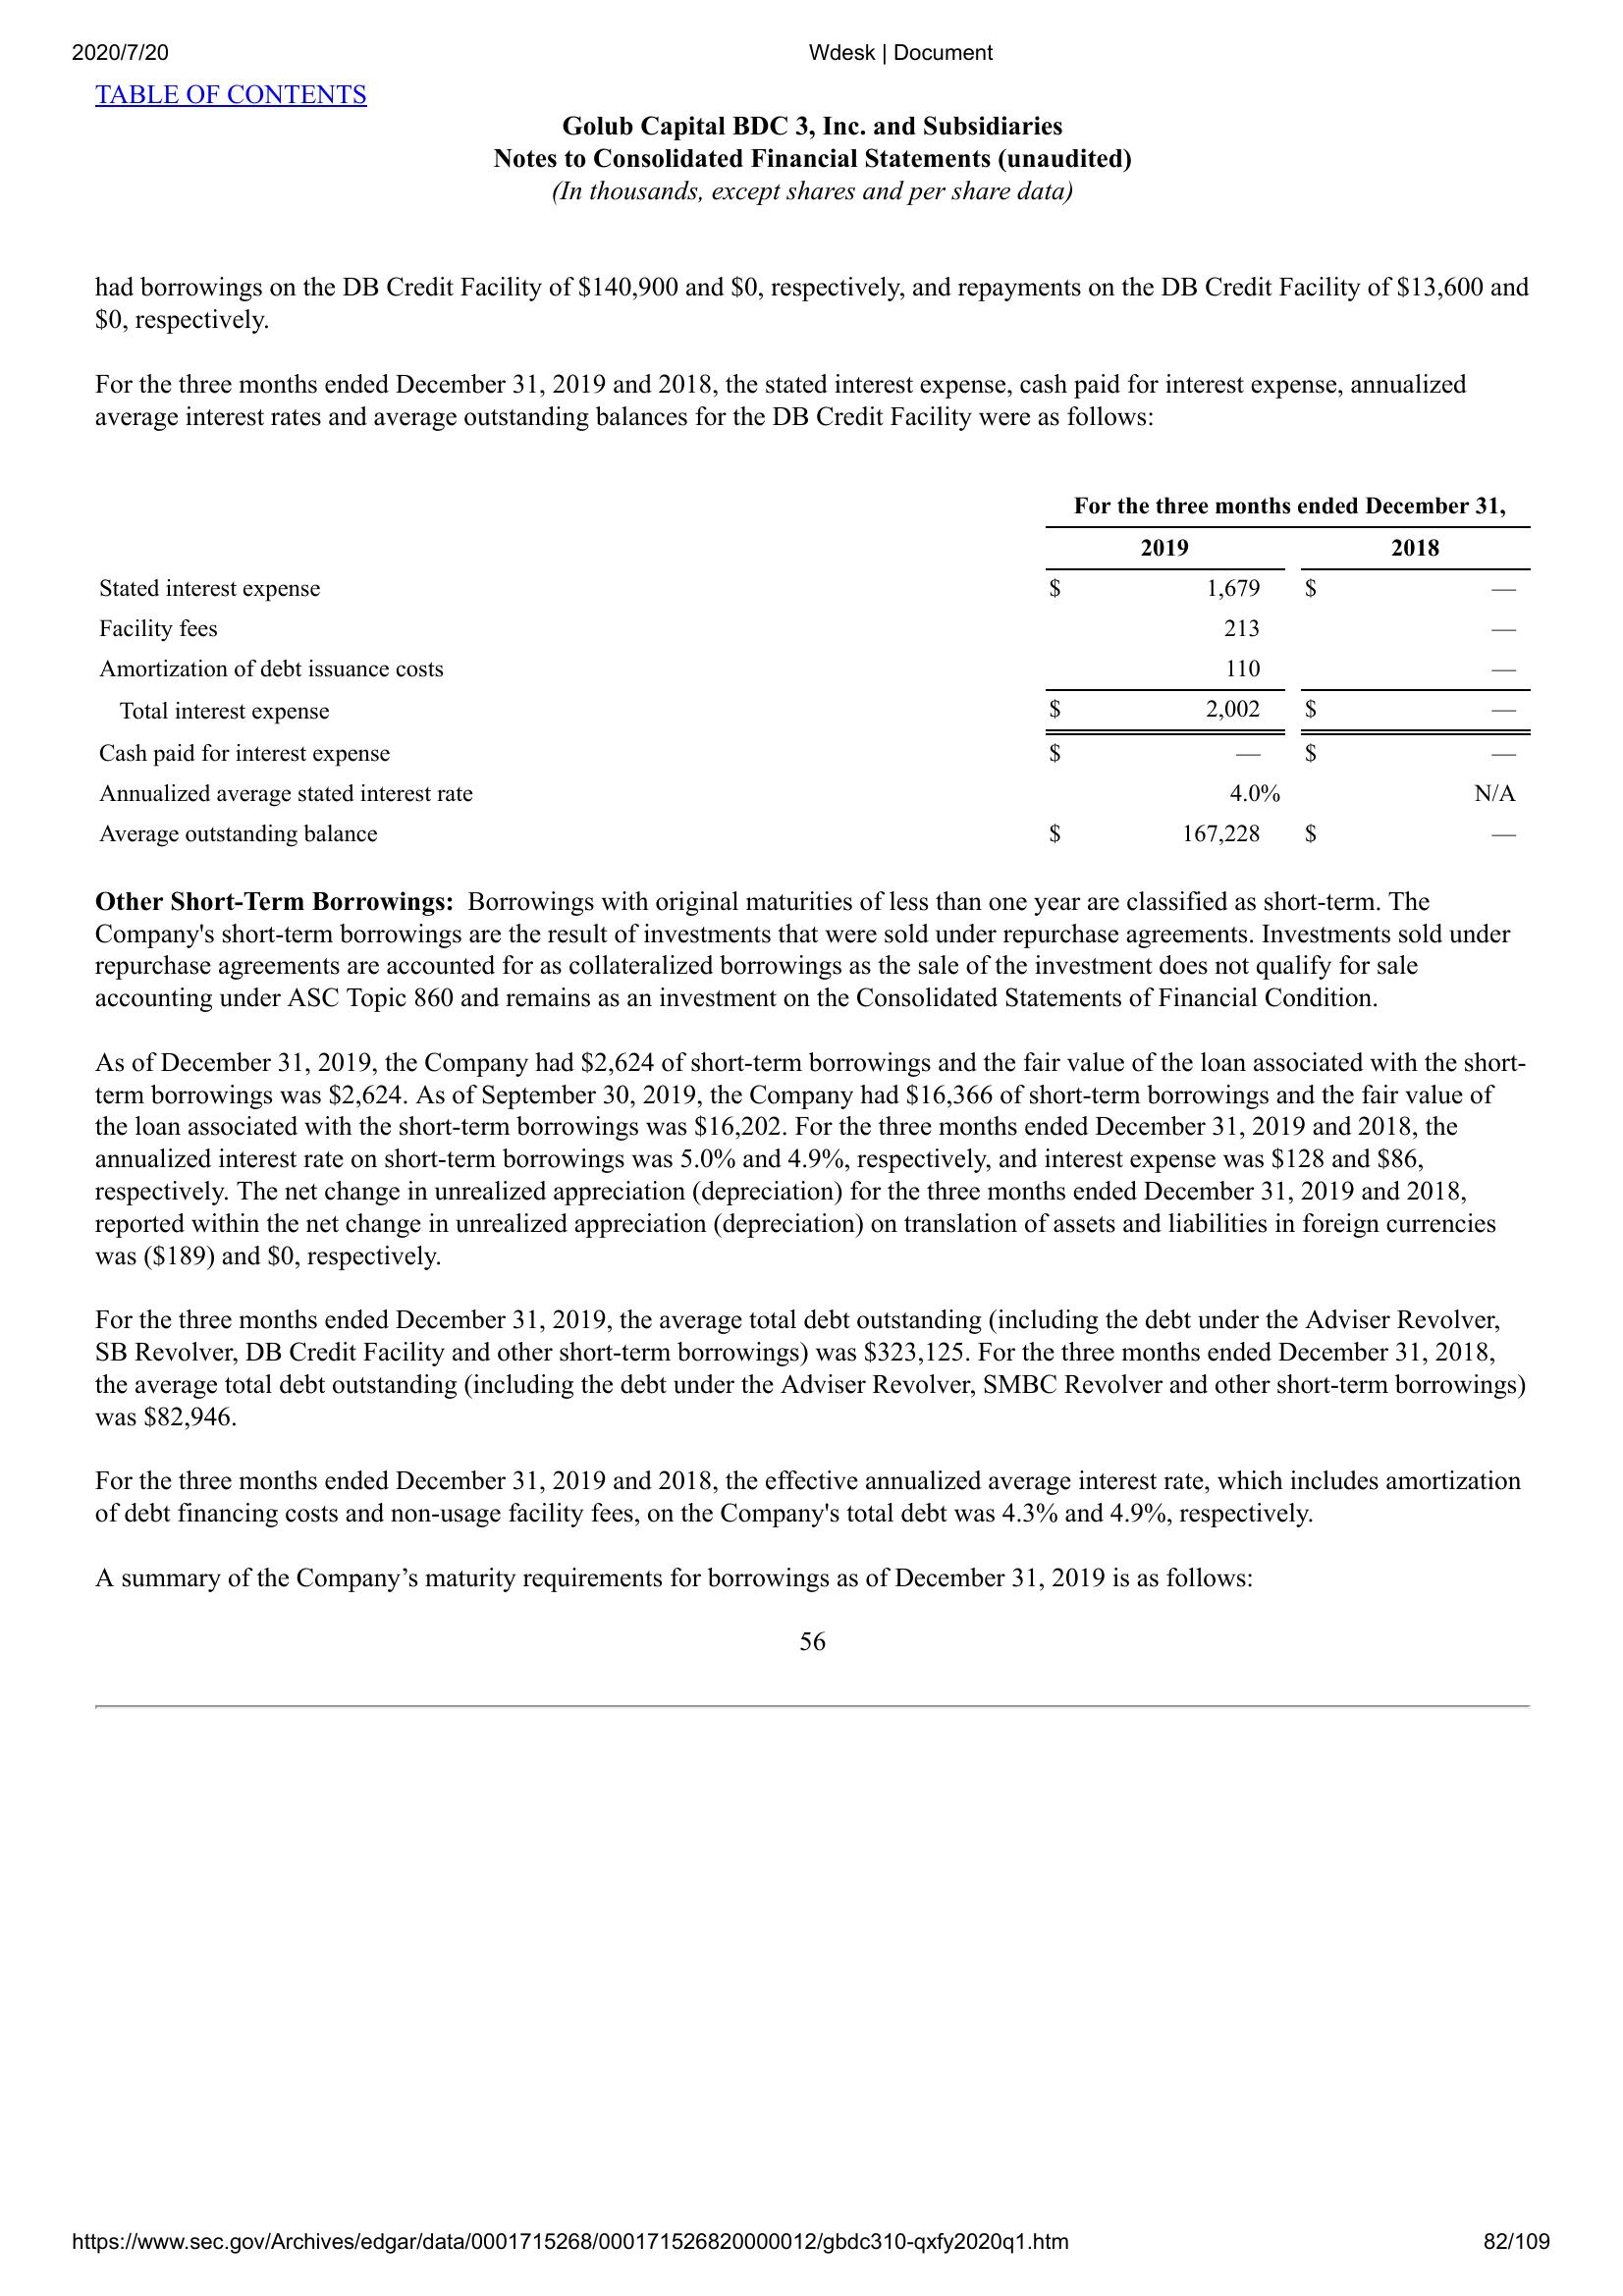table: (88, 488, 1537, 872)
